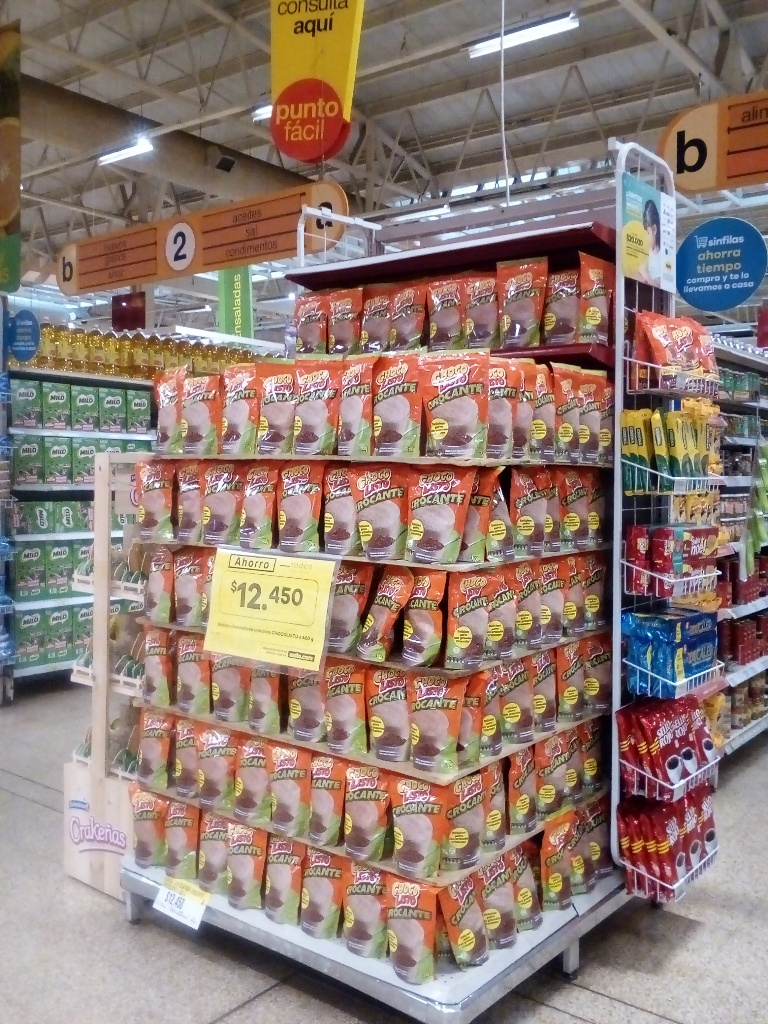COL0170102DYP50000: (580, 807, 615, 886)
